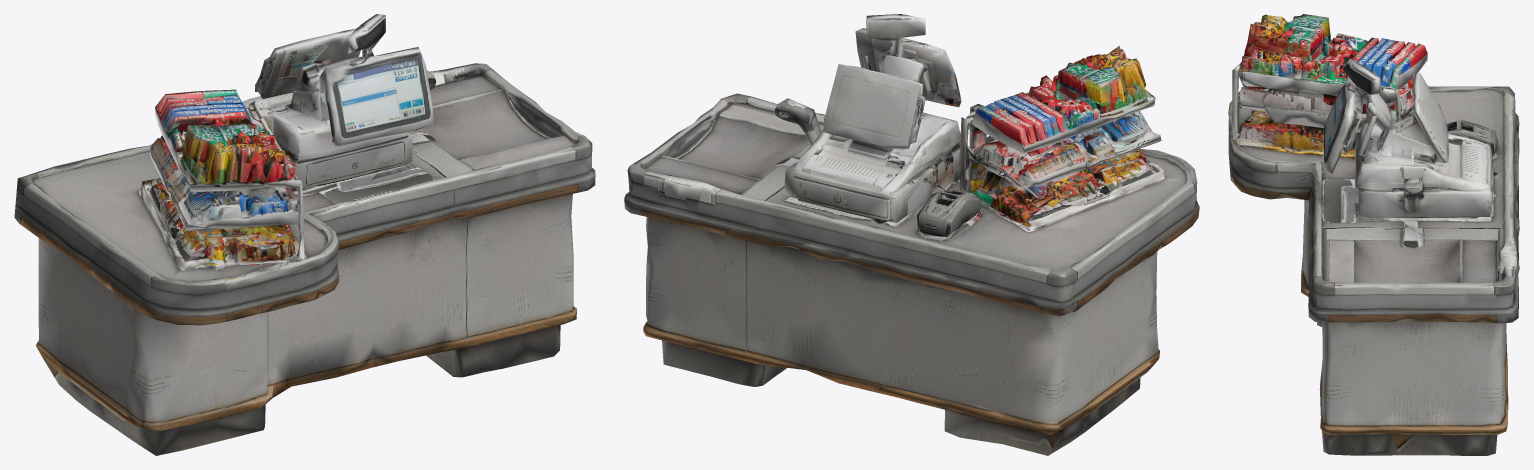
The model's file is checkout.glb.
The picture shows the model from 3 angles, left to right: view 1: azimuth 30°, elevation 25°; view 2: azimuth 150°, elevation 25°; view 3: azimuth 270°, elevation 25°; orthographic projection. The views are drawn at different scales.
Parts seen in each view (by area): view 1: texture_mapping; view 2: texture_mapping; view 3: texture_mapping.
Part boxes in pixels (left/top/right/bottom): texture_mapping: left=14, top=14, right=595, bottom=455; texture_mapping: left=624, top=14, right=1199, bottom=455; texture_mapping: left=1228, top=14, right=1519, bottom=455.
Size of the model in its own units: 1 by 0.7173 by 0.6033.
Materials: 1 (1 with a texture image).
